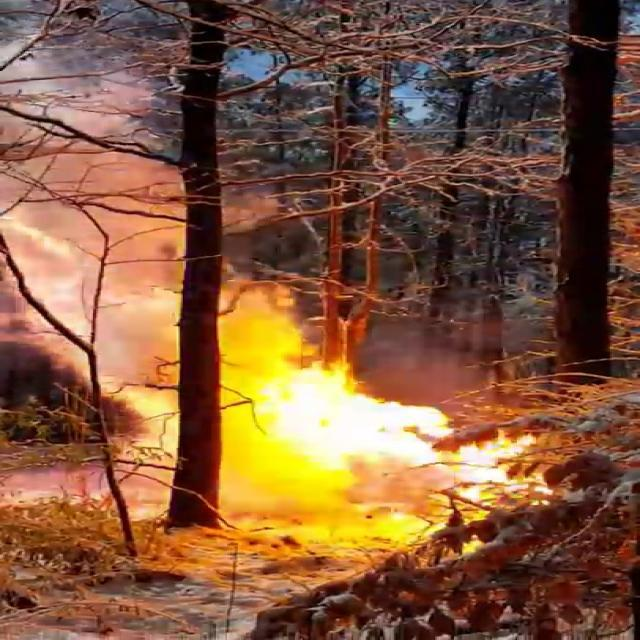Fire: (218, 295, 570, 573)
